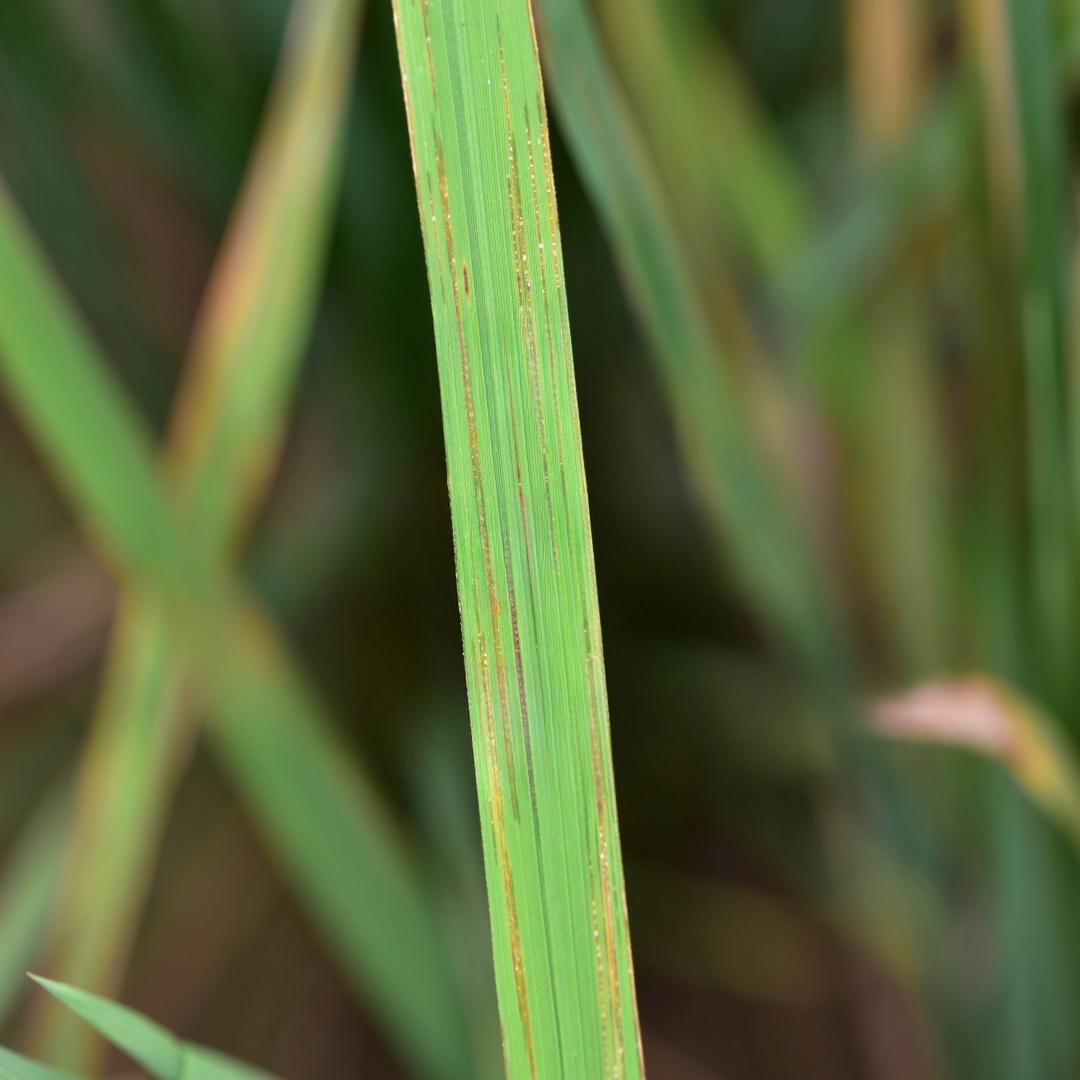BLS: (527, 0, 616, 802), (432, 116, 521, 827), (470, 529, 538, 1079), (497, 13, 557, 584), (581, 596, 628, 1079), (526, 94, 571, 561), (505, 349, 545, 731), (392, 1, 432, 299), (504, 513, 540, 838), (583, 775, 610, 1079), (622, 882, 646, 1079), (426, 170, 446, 316), (606, 802, 621, 965), (421, 1, 439, 112)
